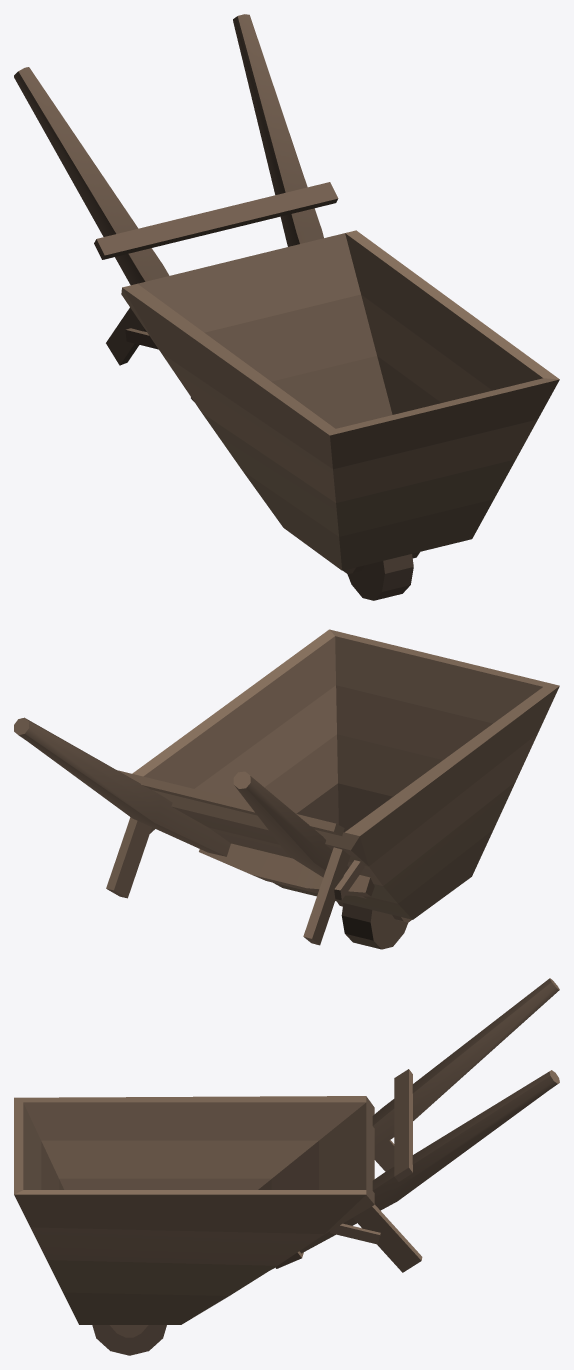
File: human-tools-wheelbarrow_v1.glb
3 views of the same model, one above another, from view 1: azimuth 30°, elevation 25°; view 2: azimuth 150°, elevation 25°; view 3: azimuth 270°, elevation 25° (orthographic). The views are drawn at different scales.
Parts seen in each view (by area): view 1: Wheelbarrow.001; view 2: Wheelbarrow.001; view 3: Wheelbarrow.001.
Part boxes in pixels (x1,y1,x2,y2): Wheelbarrow.001: [14, 14, 559, 600]; Wheelbarrow.001: [14, 629, 559, 949]; Wheelbarrow.001: [14, 978, 559, 1355].
Bounding box in the file's own units: 0.6518 × 0.9852 × 1.5.
